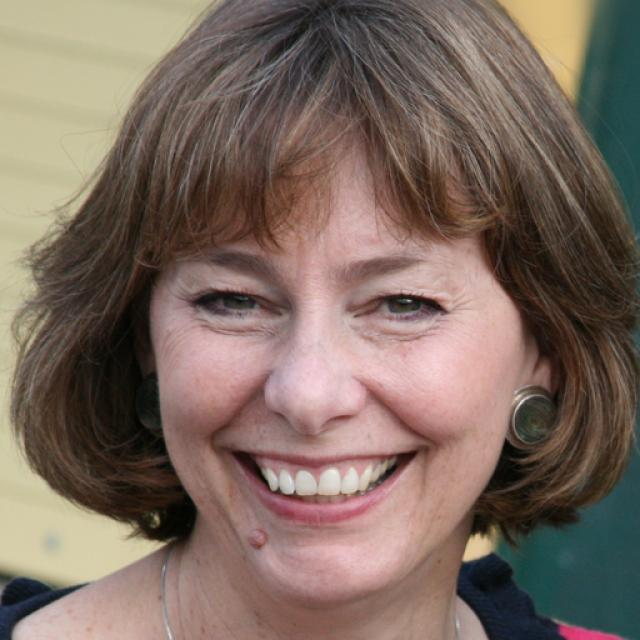Acne: (238, 517, 276, 556)
Wrinkle: (358, 377, 453, 450), (199, 381, 264, 450)
